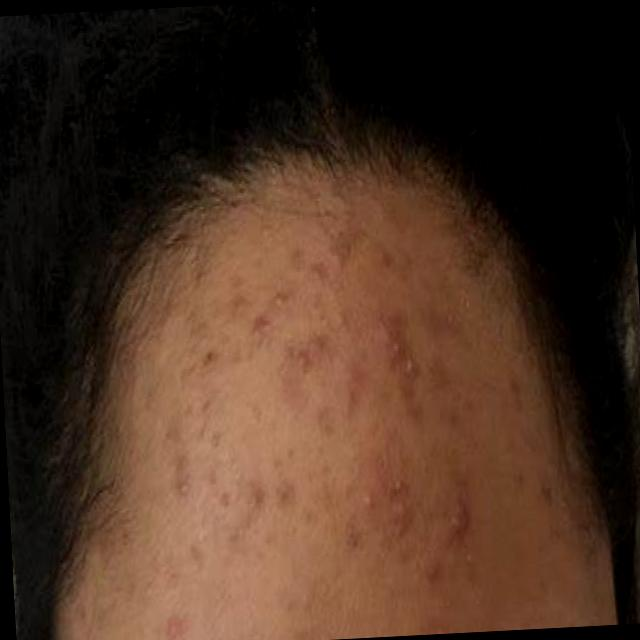fungal: (138, 210, 532, 629)
